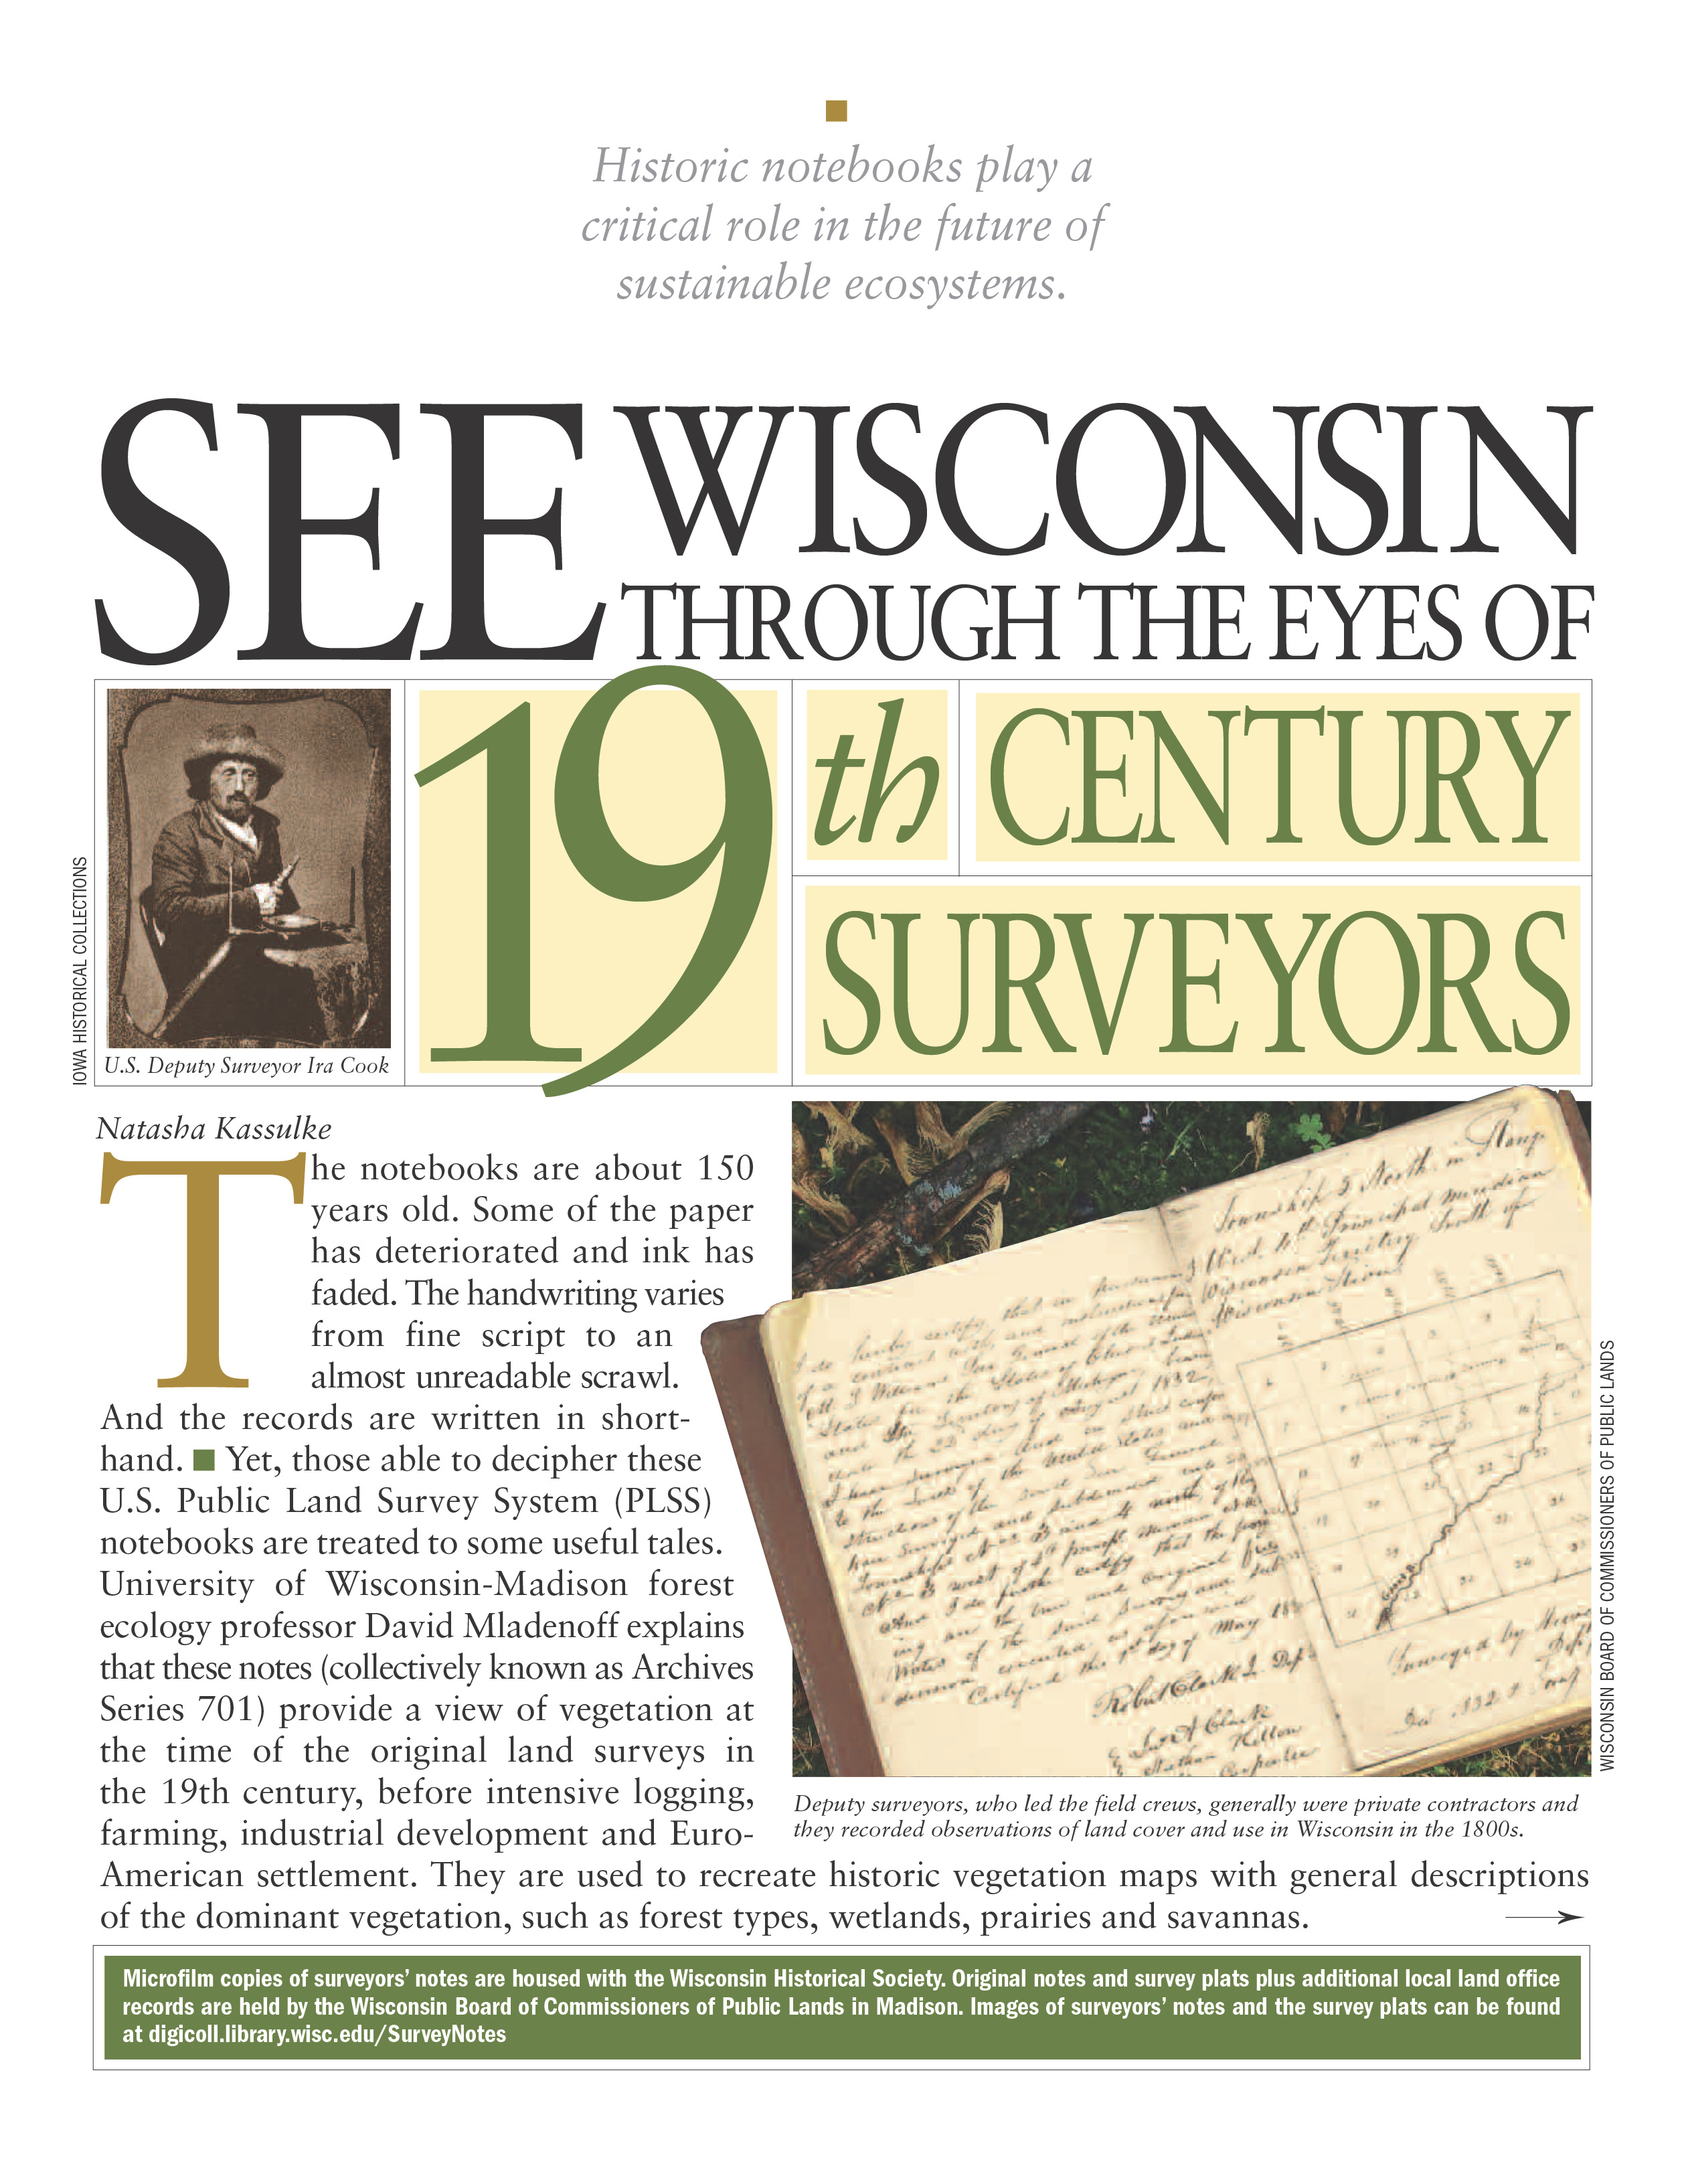caption: (97, 1062, 398, 1087)
figure: (747, 1110, 1574, 1776), (102, 700, 378, 1055)
section: (102, 382, 1597, 668), (822, 686, 1588, 1065), (410, 677, 786, 1094)
text: (102, 1164, 760, 1861), (94, 1854, 1594, 1947), (115, 1960, 1569, 2050), (578, 145, 1118, 318), (1594, 1338, 1622, 1783), (90, 1110, 334, 1149)
